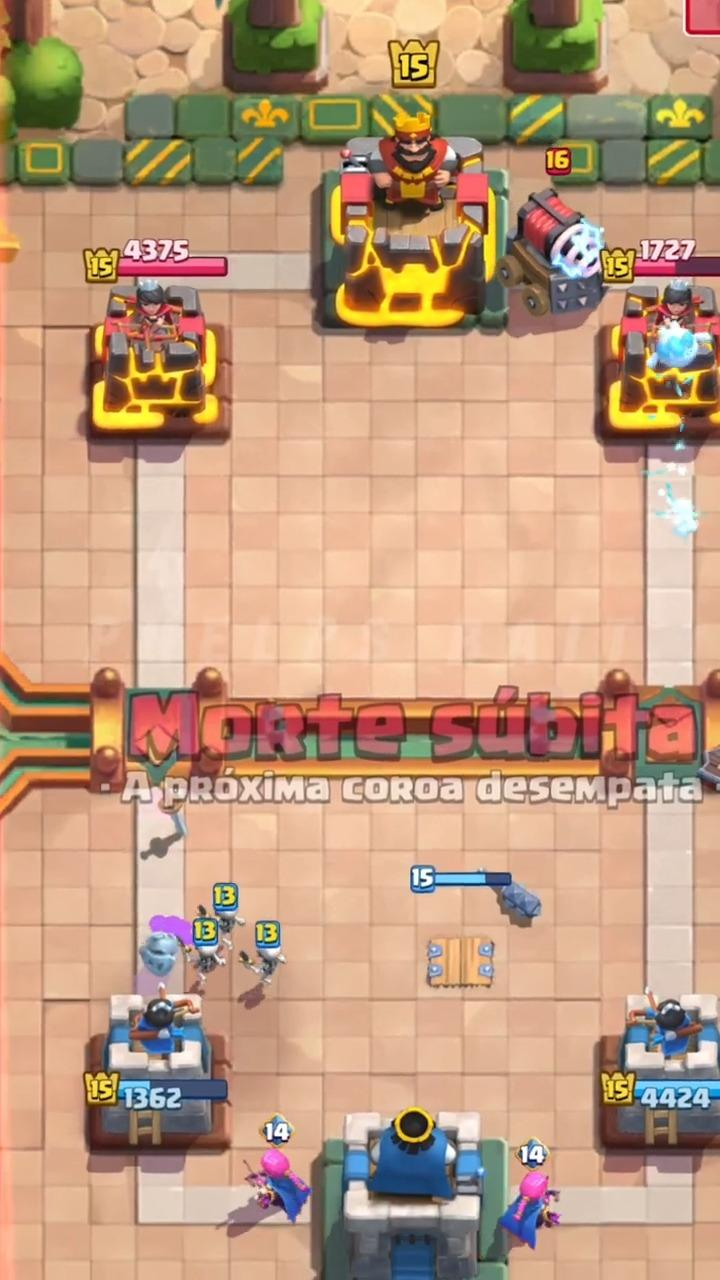archer: (246, 1149, 311, 1223), (499, 1169, 559, 1249)
ice spirit: (651, 320, 708, 368)
skeletons: (193, 906, 243, 985), (238, 942, 285, 984)
sparky: (496, 187, 606, 316)
tesla: (427, 937, 494, 987)
